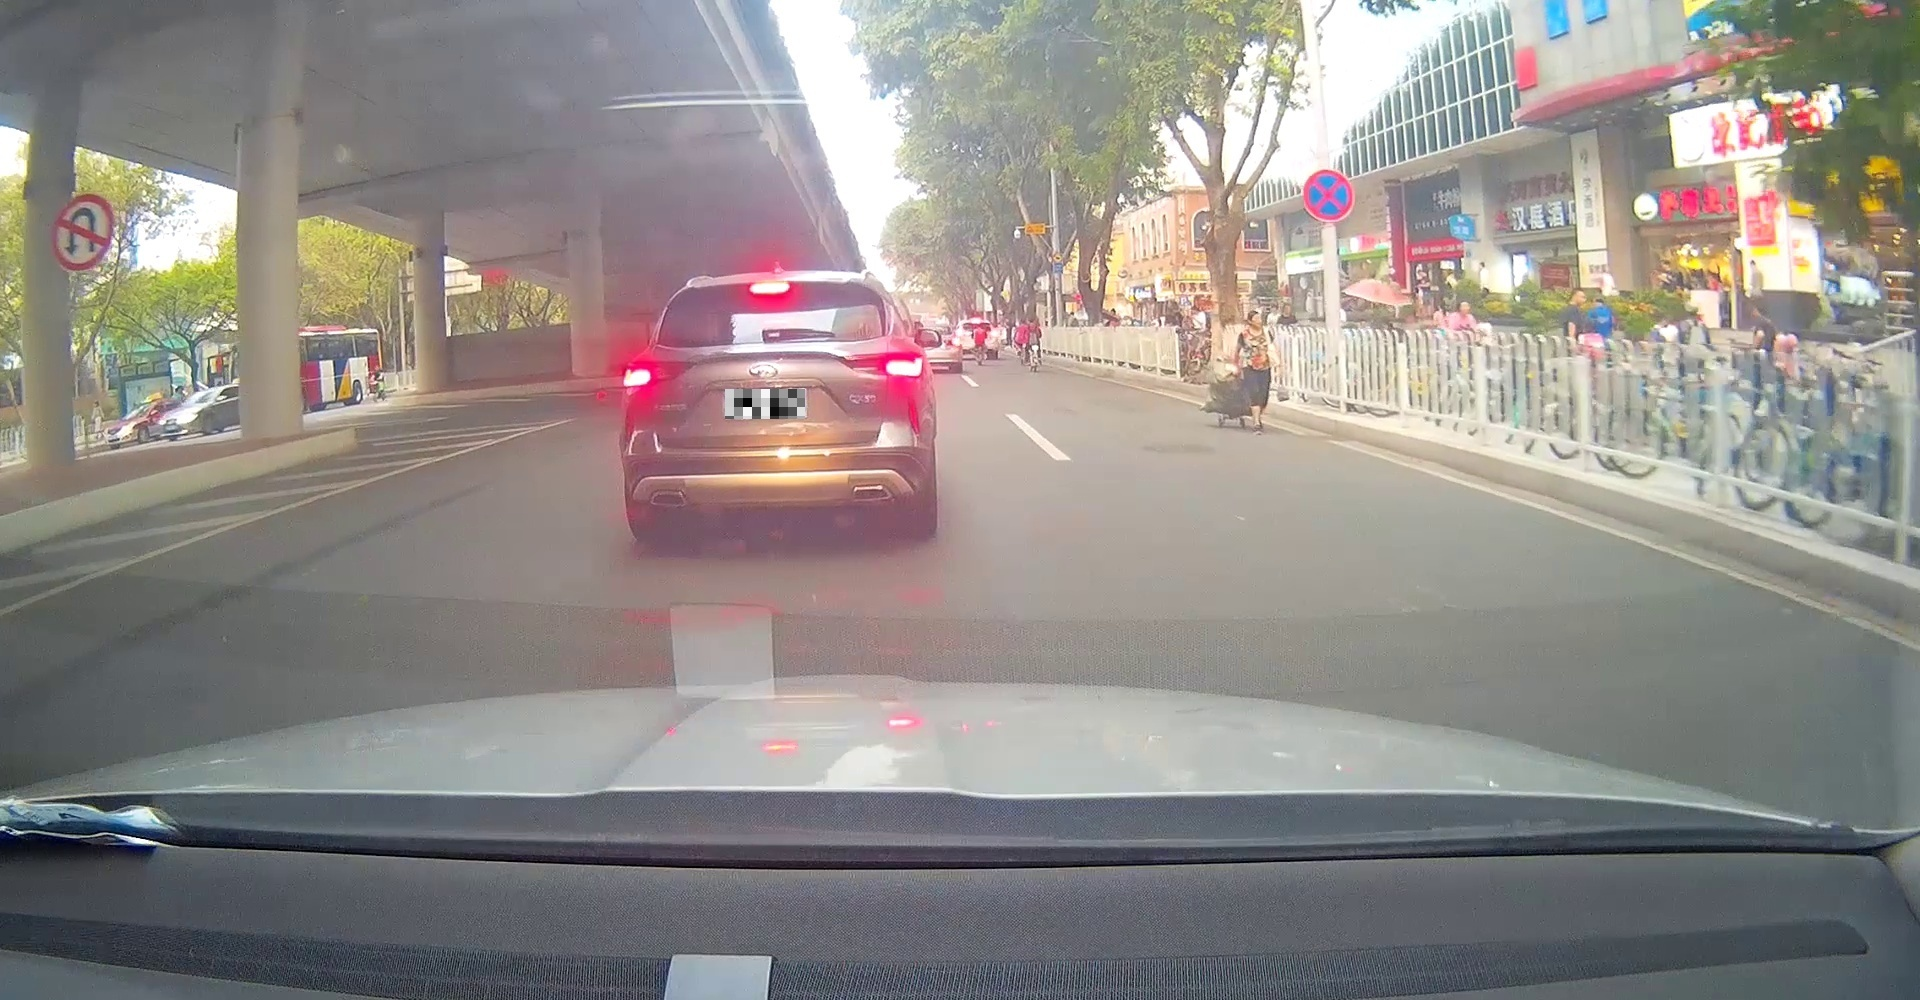L_light: (625, 360, 695, 388)
R_light: (853, 353, 924, 377)
T_light: (750, 282, 789, 294)
day-brake: (622, 275, 936, 542)
plate_1: (725, 390, 805, 419)
